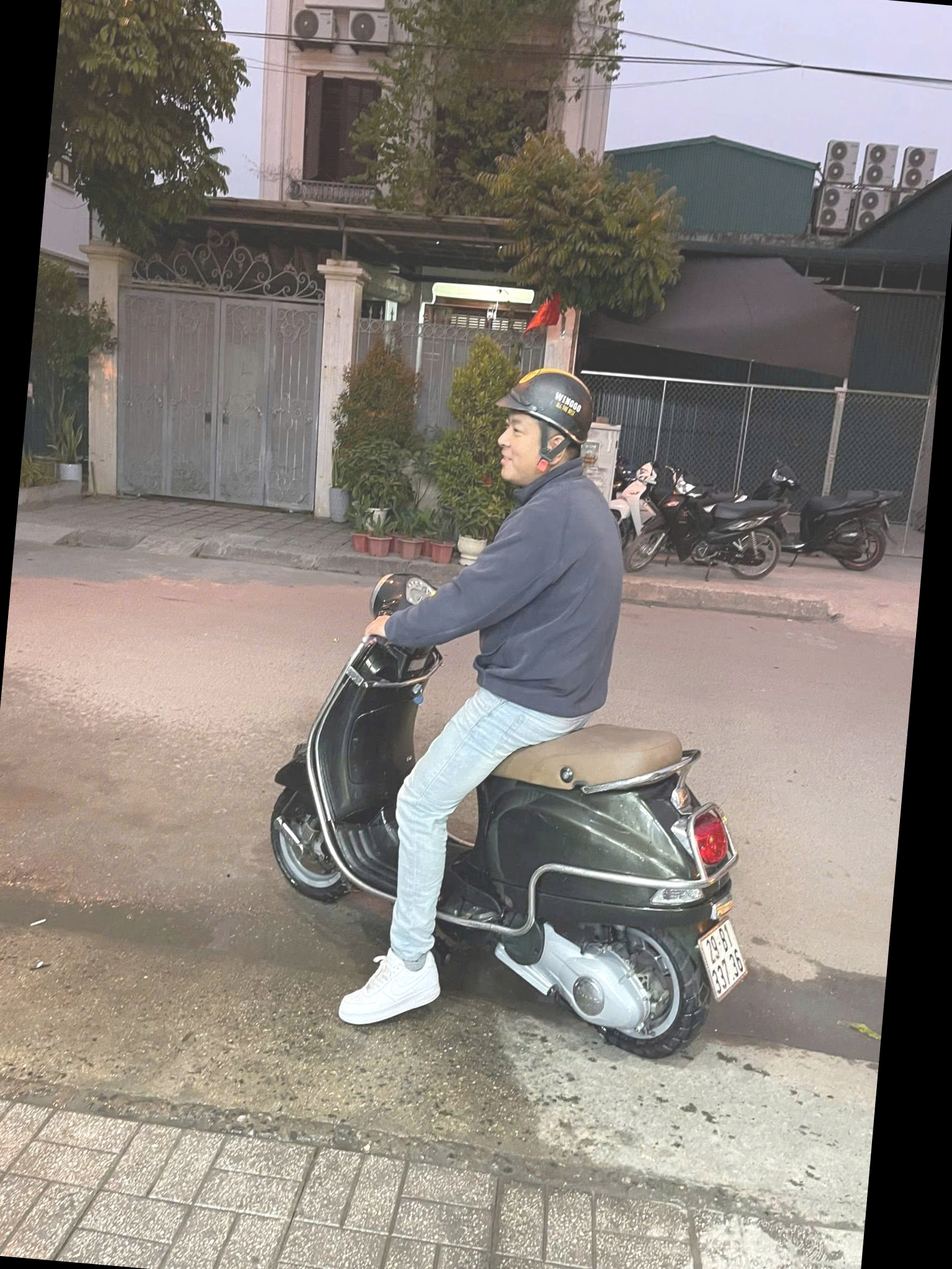Bien-so: (744, 883, 808, 965)
